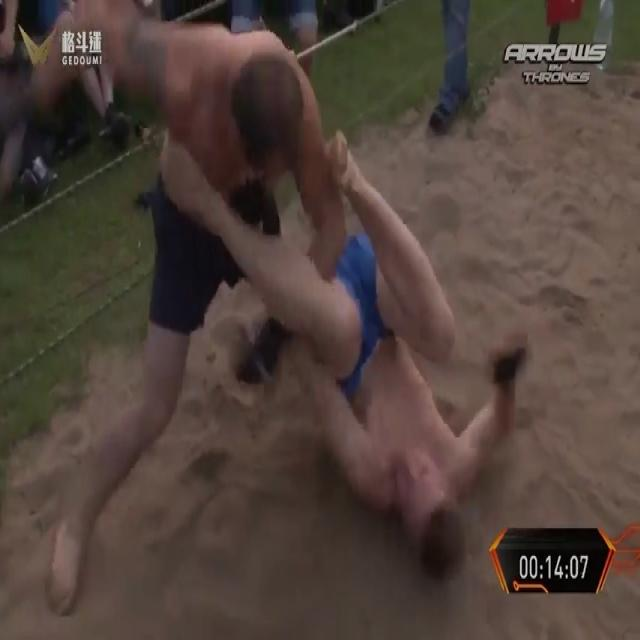fight: (6, 0, 531, 632)
